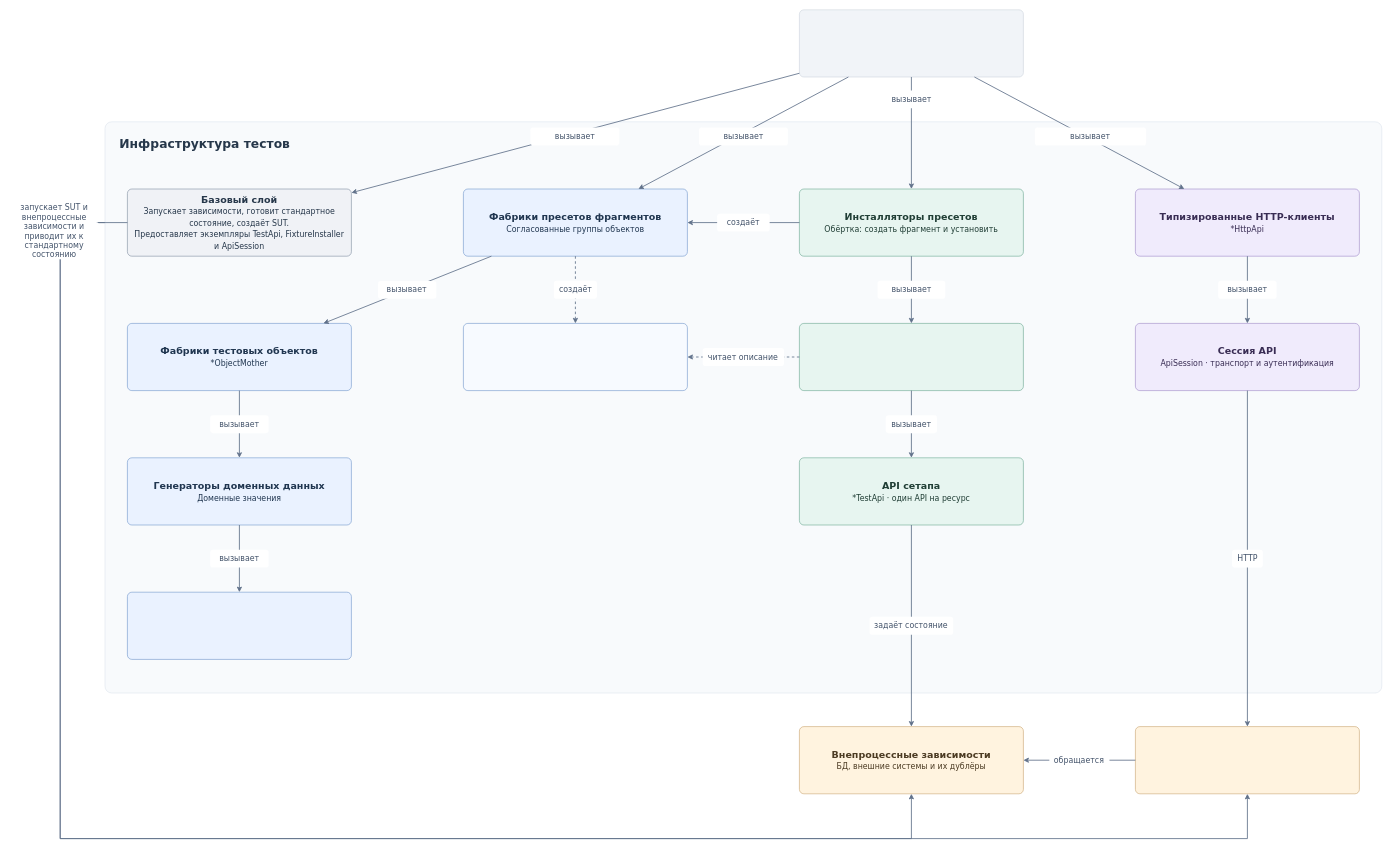
Image size: 1392x853. Some labels were removed from this diagram. The box of each missing label's shape, as (x1, y1, x2, y2) in pixels:
SUT Тестируемое приложение / компонент: (1135, 726, 1359, 794)
Генераторы универсальных данных Числа, строки, даты…: (127, 592, 351, 659)
Инсталляторы фрагментов *FixtureInstaller: (799, 323, 1023, 391)
Кейс: (799, 9, 1023, 77)
Фрагменты фикстур *Fixture · описание состояния в памяти: (463, 323, 687, 391)
